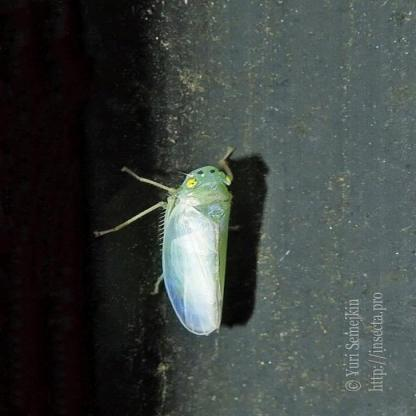Green-Leafhopper: (96, 145, 240, 338)
